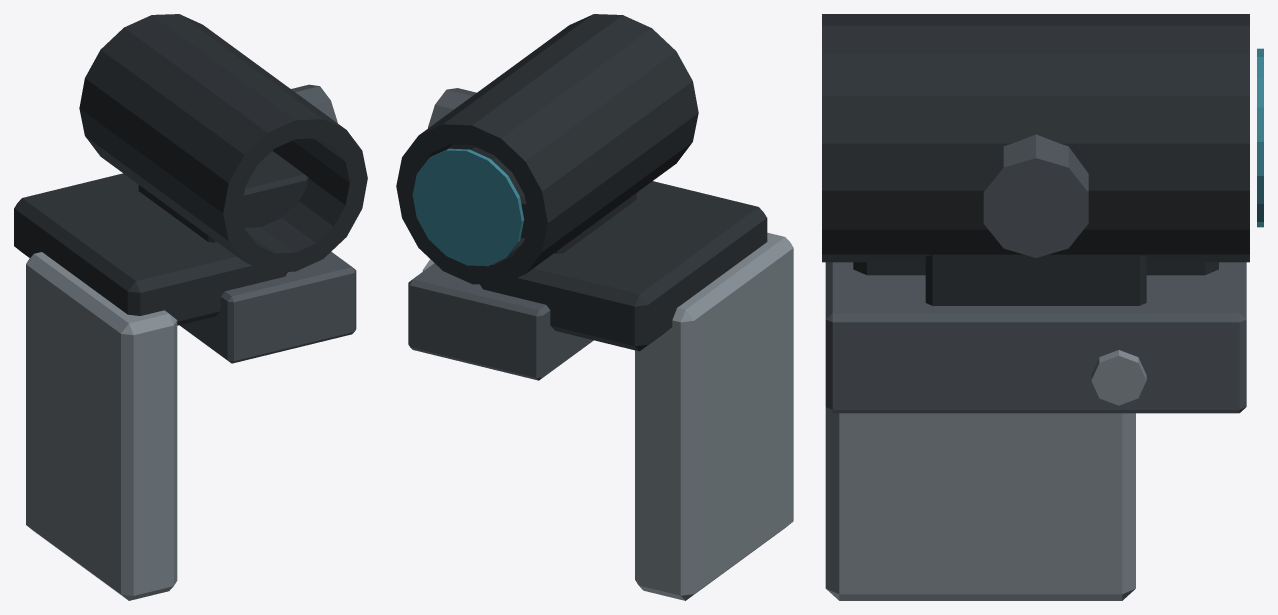
File: att_optic_side_dot.glb
3 renders of one model, left to right at view 1: azimuth 30°, elevation 25°; view 2: azimuth 150°, elevation 25°; view 3: azimuth 270°, elevation 25°, orthographic. The views are drawn at different scales.
Visible parts, largest first — view 1: Geometry_att_optic_side_dot; view 2: Geometry_att_optic_side_dot; view 3: Geometry_att_optic_side_dot.
Part boxes in pixels (<box>): Geometry_att_optic_side_dot: <box>14,14,367,600</box>; Geometry_att_optic_side_dot: <box>396,14,793,600</box>; Geometry_att_optic_side_dot: <box>822,14,1263,600</box>.
Bounding box in the file's own units: 0.066 × 0.106 × 0.064.
